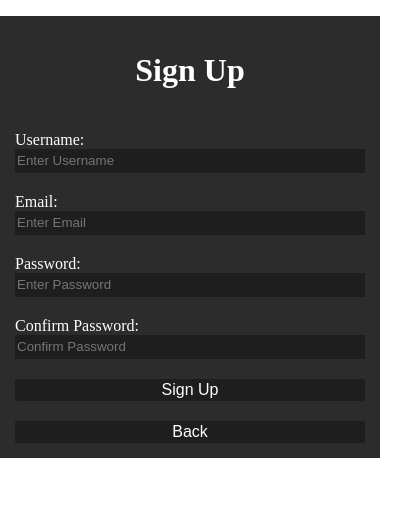
Test: Sign Up Component › error should show if sign up api fails
This screenshot has width=397, height=513.
Step 1. Type "test" into the field labelled "Username" → (190, 161), box [15,149,365,173]
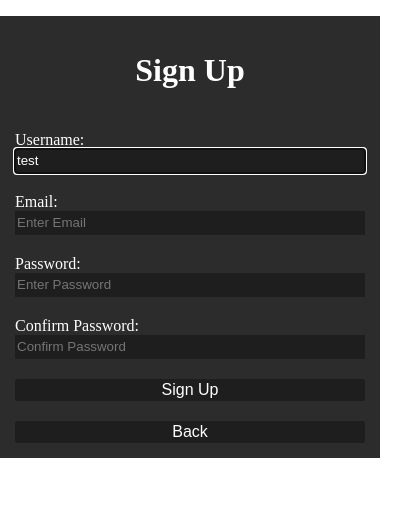
Step 2. Type "test" into the password field labelled "Password:" → (190, 285), box [15,273,365,297]
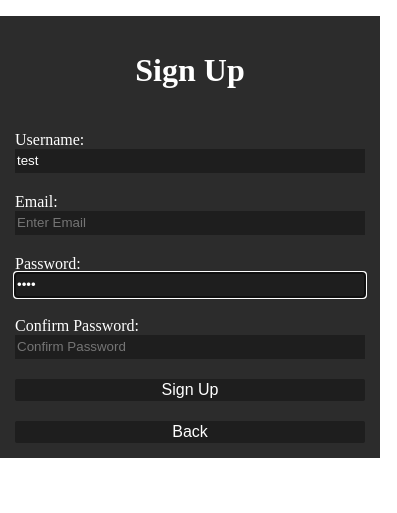
Step 3. Type "test" into the password field labelled "Confirm Password:" → (190, 347), box [15,335,365,359]
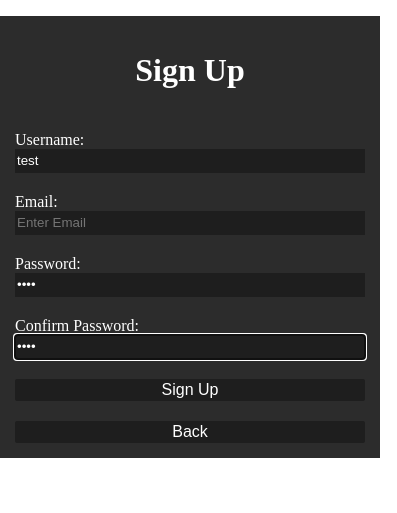
Step 4. Click the button "Sign Up" → click(190, 390), box [15,379,365,401]
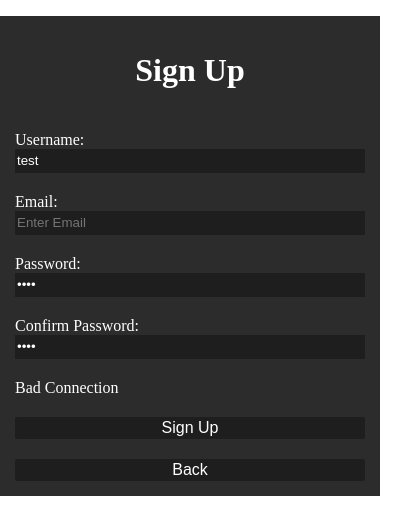
expect the text "Bad Connection" is shown: met, box [15,379,118,396]
